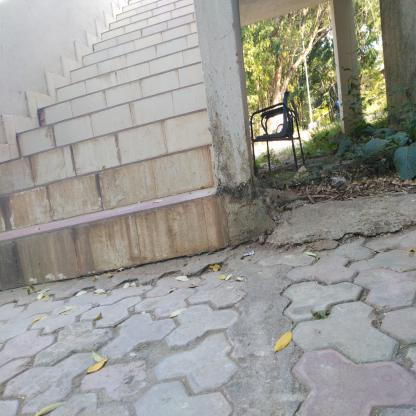stairs: (107, 17, 195, 290)
